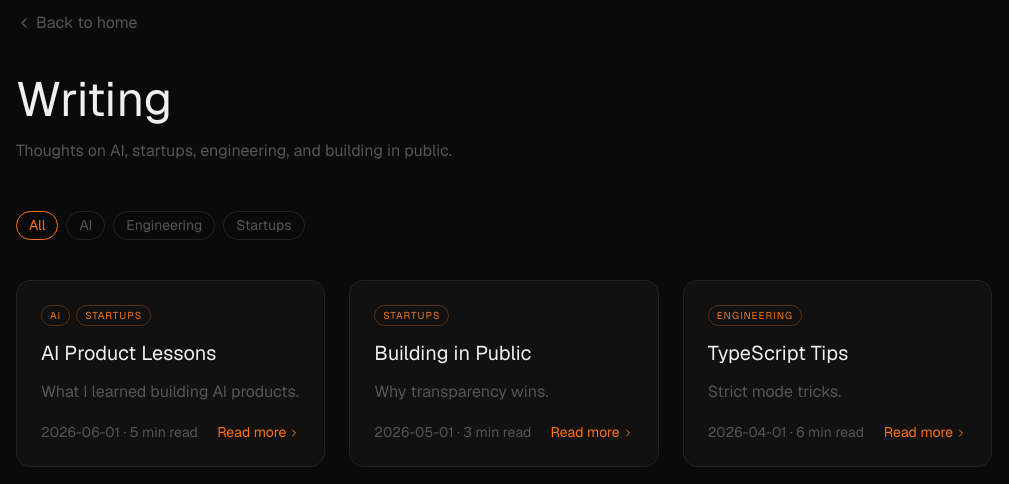
Test: /blog listing page › filters posts when a tag button is clicked
The width and height of the screenshot is (1009, 484).
Step 1. Click the button "Engineering" → {"x": 164, "y": 225}, box [113,211,215,240]
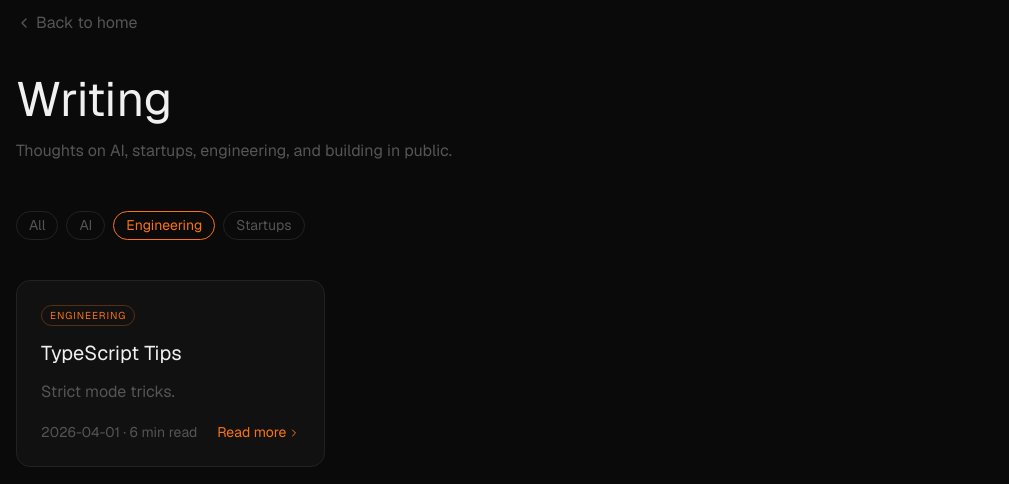
Expected: the heading "TypeScript Tips" is shown, [41,340,182,366]
Expected: the link "AI Product Lessons" is gone
